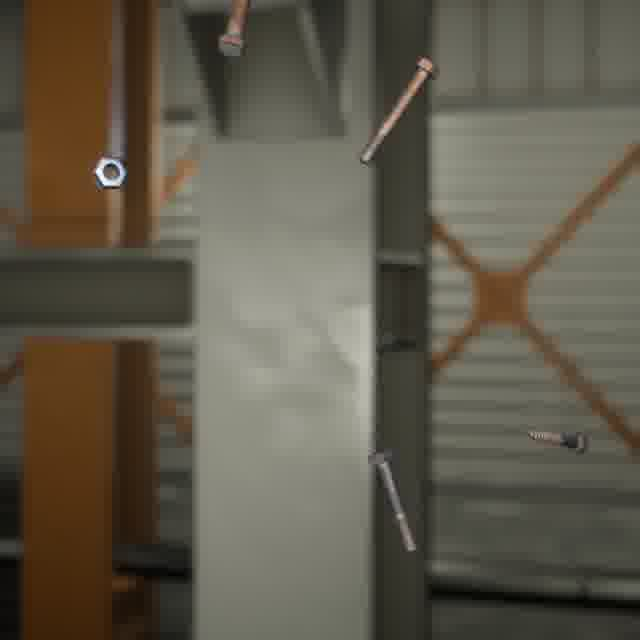bolt: (354, 53, 444, 169), (362, 443, 422, 556), (214, 0, 255, 62), (521, 425, 591, 458)
nut: (87, 153, 131, 193)
